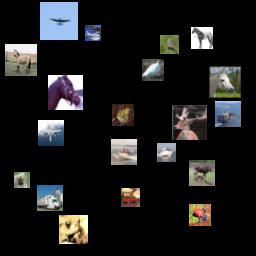airplane: (40, 2, 78, 40), (38, 120, 64, 146), (85, 25, 101, 41)
automobile: (121, 188, 140, 207)
bird: (142, 59, 164, 81), (160, 35, 179, 54)
deer: (172, 105, 207, 140), (189, 160, 215, 186)
dog: (14, 172, 30, 188)
frog: (59, 215, 88, 244), (112, 104, 134, 126), (189, 204, 211, 226)
ship: (215, 101, 241, 127), (111, 139, 137, 165), (157, 143, 176, 162)
truck: (37, 185, 63, 211)
